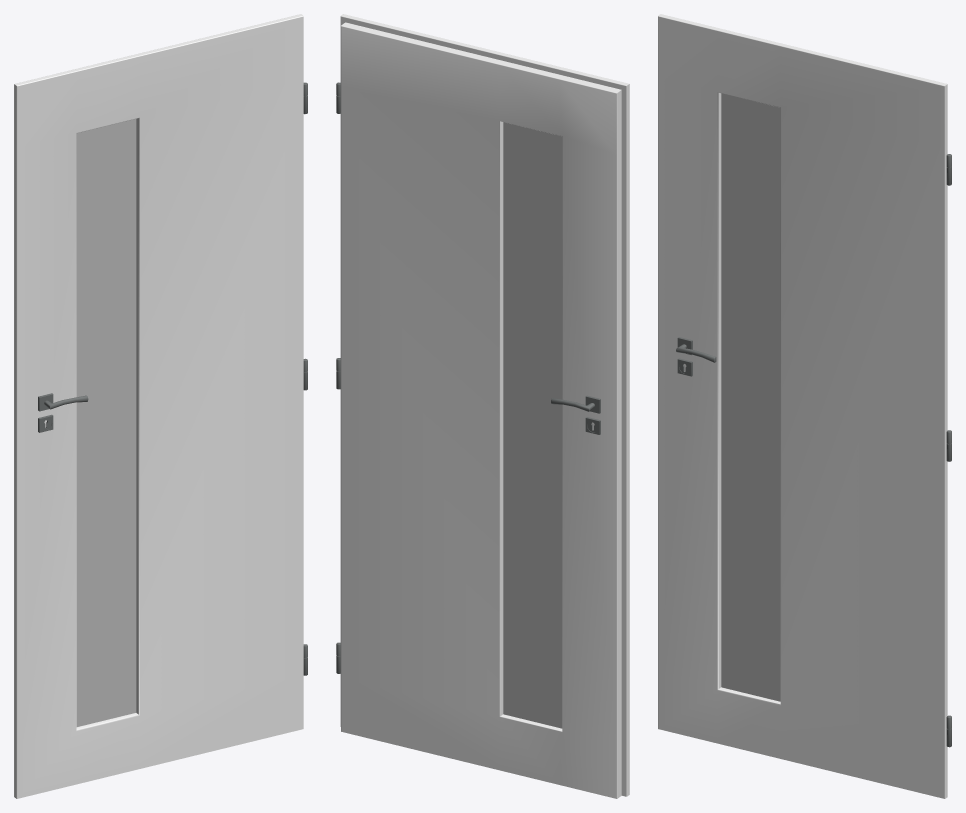
The model's file is door8.obj.
3 views of the same model, side by side, from view 1: azimuth 30°, elevation 25°; view 2: azimuth 150°, elevation 25°; view 3: azimuth 330°, elevation 25° (orthographic).
Visible parts, largest first — view 1: dvere_Cube.001; view 2: dvere_Cube.001; view 3: dvere_Cube.001.
Part boxes in pixels (bbox=[...]): dvere_Cube.001: bbox=[14, 14, 307, 798]; dvere_Cube.001: bbox=[336, 14, 629, 798]; dvere_Cube.001: bbox=[658, 14, 951, 798].
Size of the model in its own units: 0.8688 by 2.03 by 0.1167.
Materials: 4 (2 with a texture image).
